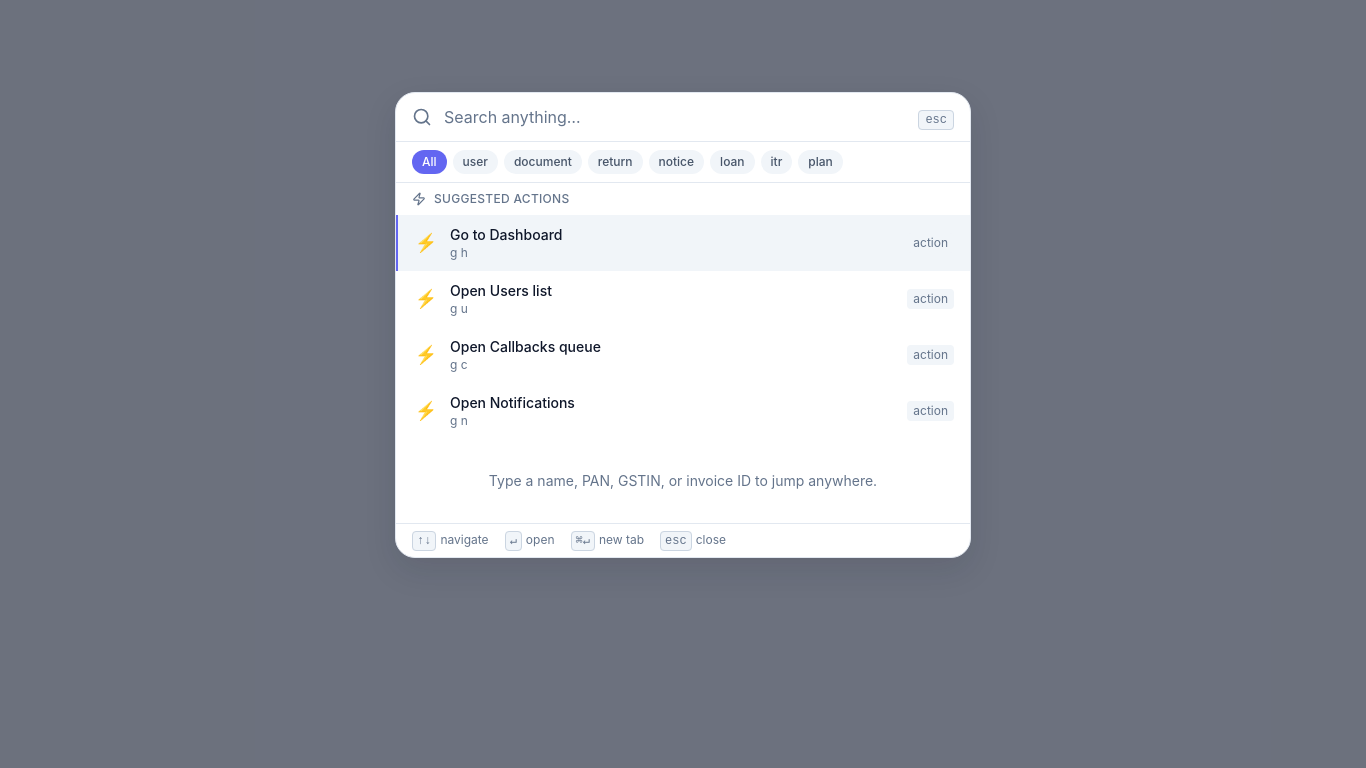
Test: CommandPalette › search results are rendered after query
Type "gst" into the dropdown with placeholder "Search anything…" at (675, 117), box x1=444 y1=105 x2=906 y2=129
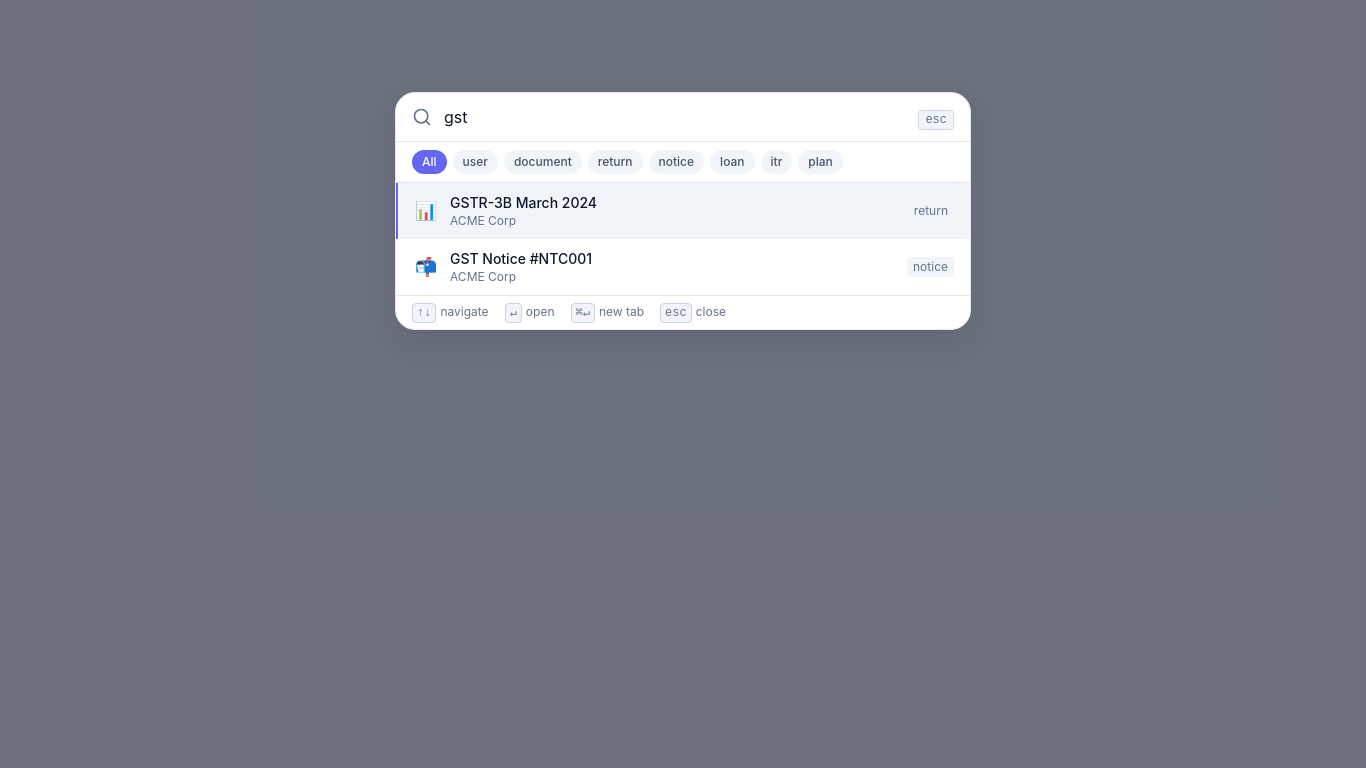
Check: the text "GSTR-3B March 2024" is shown, box x1=450 y1=194 x2=597 y2=211
Check: the text "GST Notice #NTC001" is shown, box x1=450 y1=250 x2=592 y2=267
